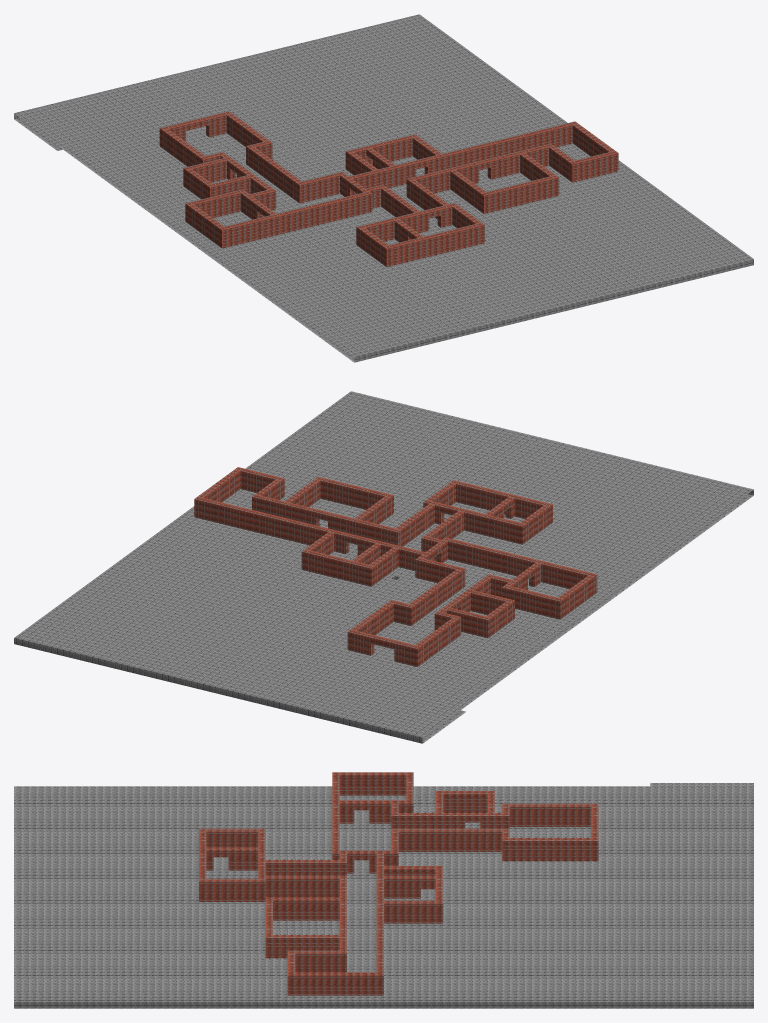
The model's file is level_1.fbx.
3 views of the same model, one above another, from view 1: azimuth 30°, elevation 25°; view 2: azimuth 150°, elevation 25°; view 3: azimuth 270°, elevation 25° (orthographic). The views are drawn at different scales.
Parts seen in each view (by area): view 1: Level_Mesh; view 2: Level_Mesh; view 3: Level_Mesh.
Part boxes in pixels (box(x1,y1,x2,y2)): Level_Mesh: box(14, 14, 753, 362); Level_Mesh: box(14, 391, 753, 743); Level_Mesh: box(14, 772, 753, 1008).
Bounding box in the file's own units: 70 × 4 × 100.
